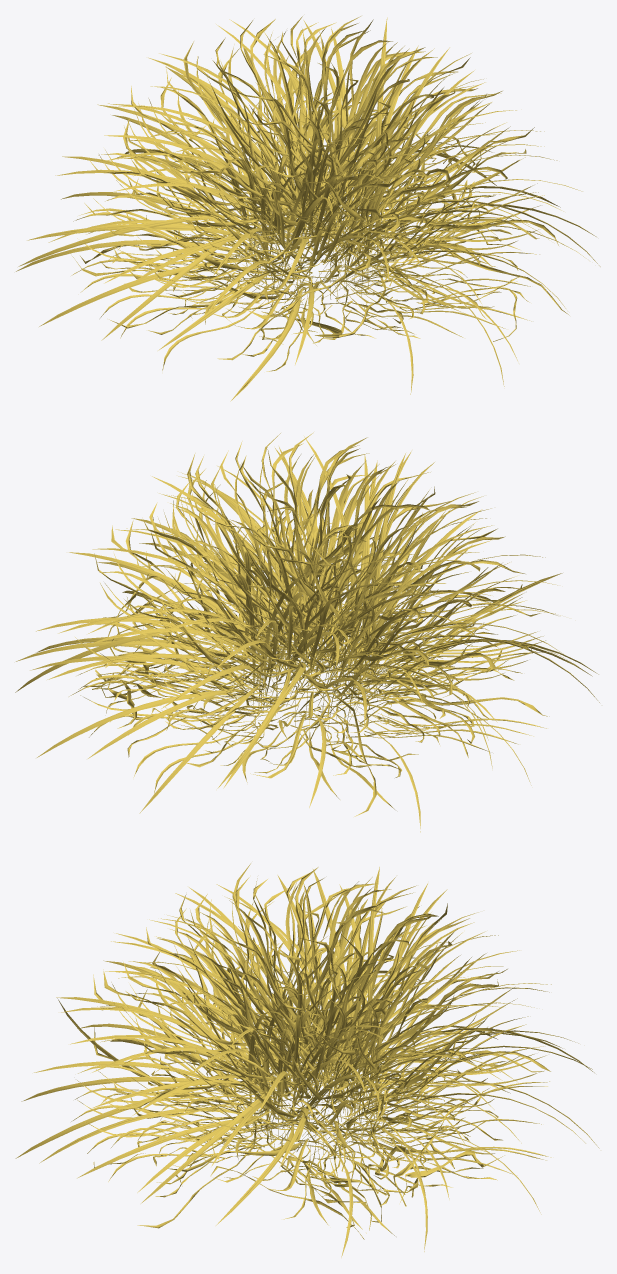
3 renders of one model, top to bottom at view 1: azimuth 30°, elevation 25°; view 2: azimuth 150°, elevation 25°; view 3: azimuth 270°, elevation 25°, orthographic.
Visible parts, largest first — view 1: AM124_079_v1; view 2: AM124_079_v1; view 3: AM124_079_v1.
Part boxes in pixels (left/top/right/bottom): AM124_079_v1: left=16, top=16, right=600, bottom=401; AM124_079_v1: left=15, top=432, right=599, bottom=832; AM124_079_v1: left=15, top=863, right=599, bottom=1257.
Bounding box in the file's own units: 1.56 × 0.7481 × 1.54.
